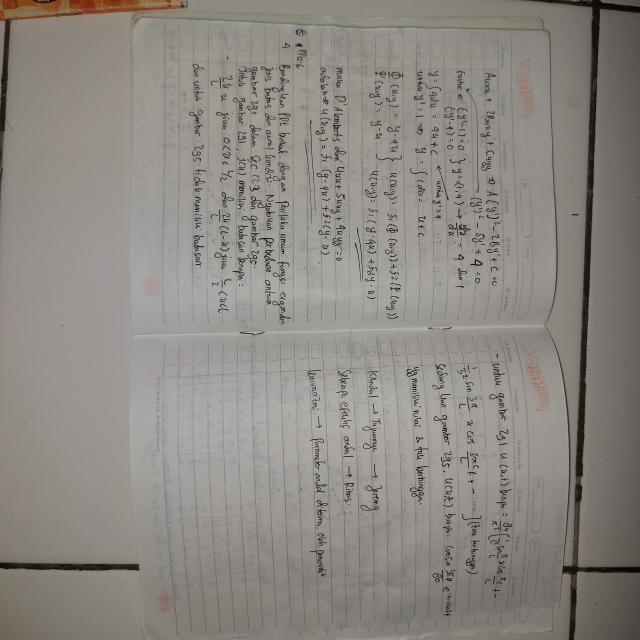Organik: (127, 16, 568, 640)
